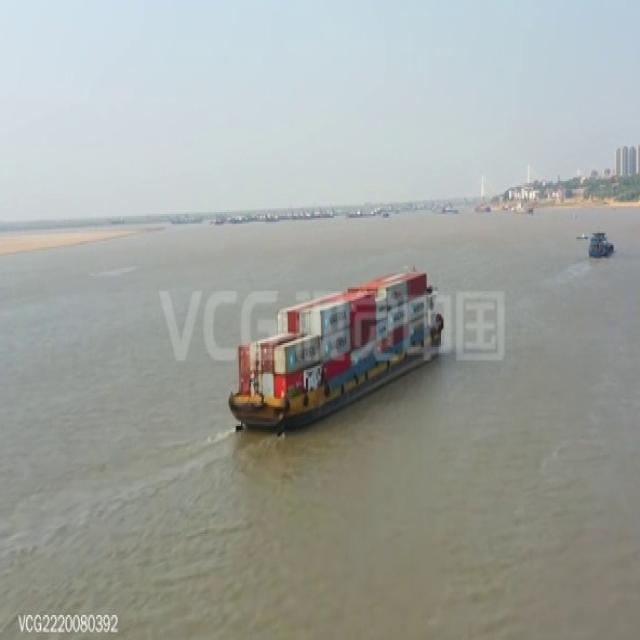cargoship: (226, 262, 446, 436)
fishing boat: (586, 230, 617, 260)
